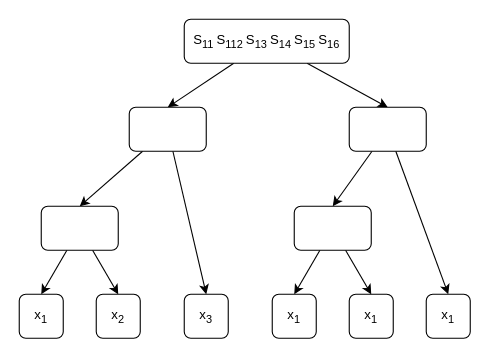
Some shapes in this 490 by 358 pixel diagram are drawn without their labels. The centre of each missing label's shape, as x and y in pixels:
"S 1 S 2" belongs at point 79,227.
"S 3 S 4" belongs at point 332,227.
"S 5 S 6 S 7" belongs at point 167,128.
"S 8 S 9 S 10" belongs at point 387,128.
